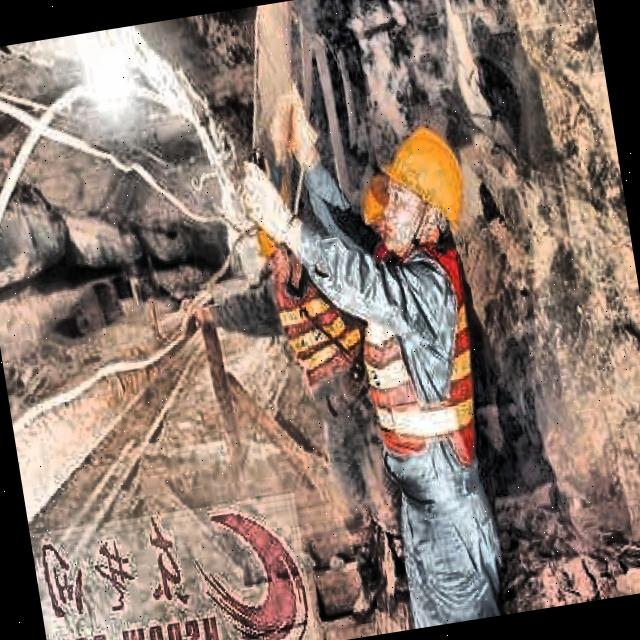helmet: (364, 118, 481, 276)
